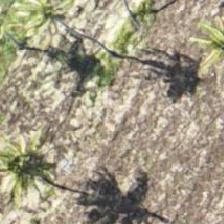coconut_tree: (0, 126, 68, 216), (2, 0, 92, 58)
